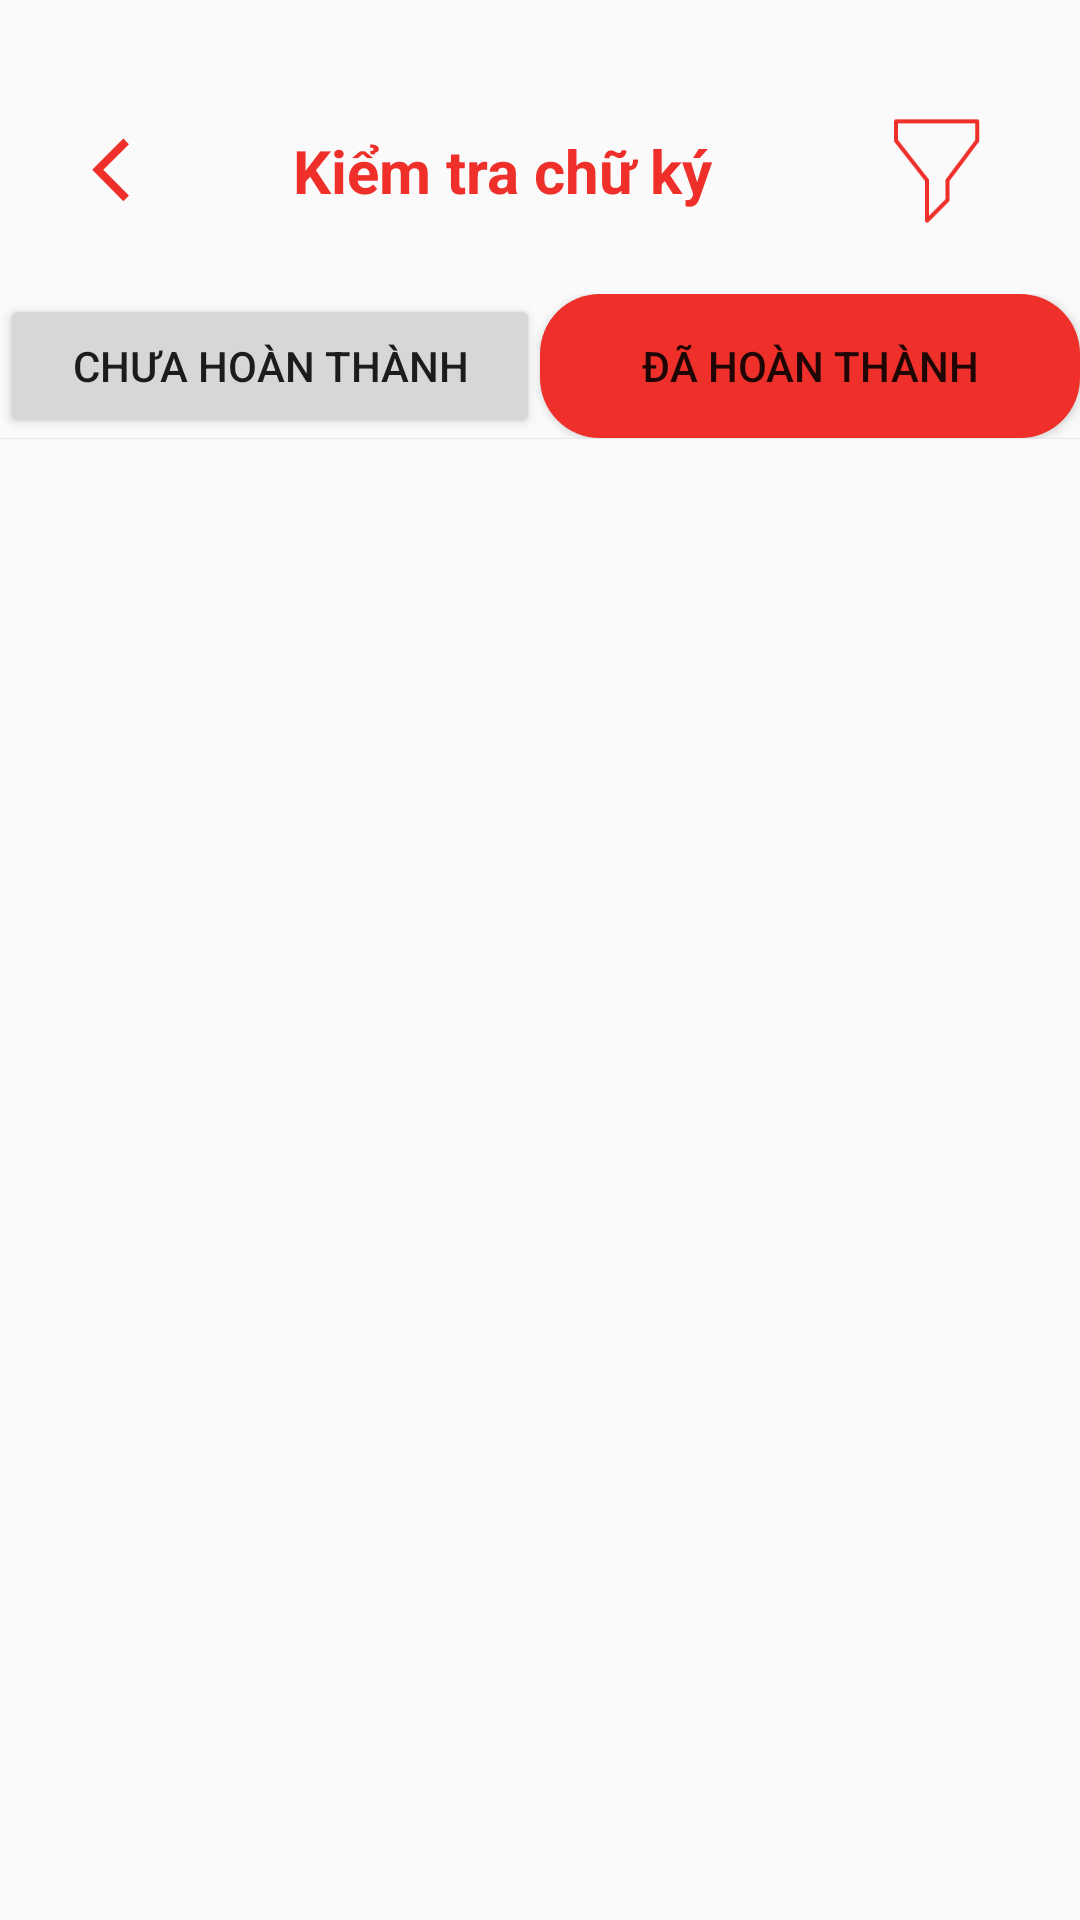

Where to tap for icons on this 1080 × 1920 app screen, as [x,y]:
filter: [937,171]
left: [110,169]
